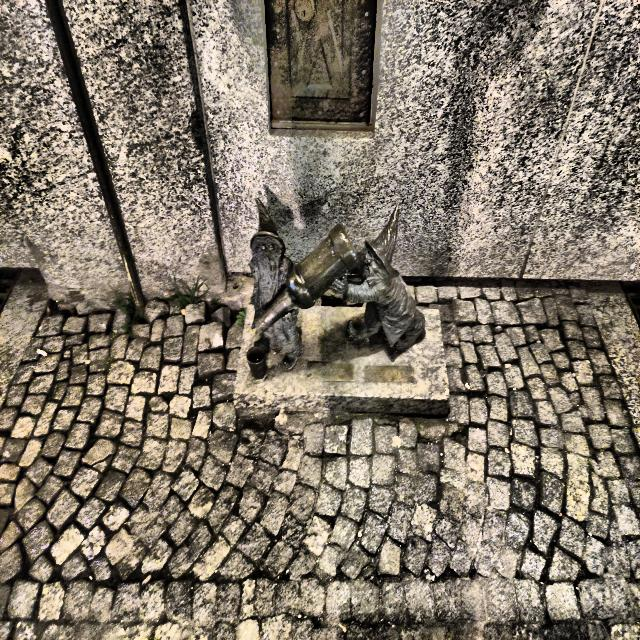Ogorzalek_i_Opilek: (250, 200, 425, 370)
